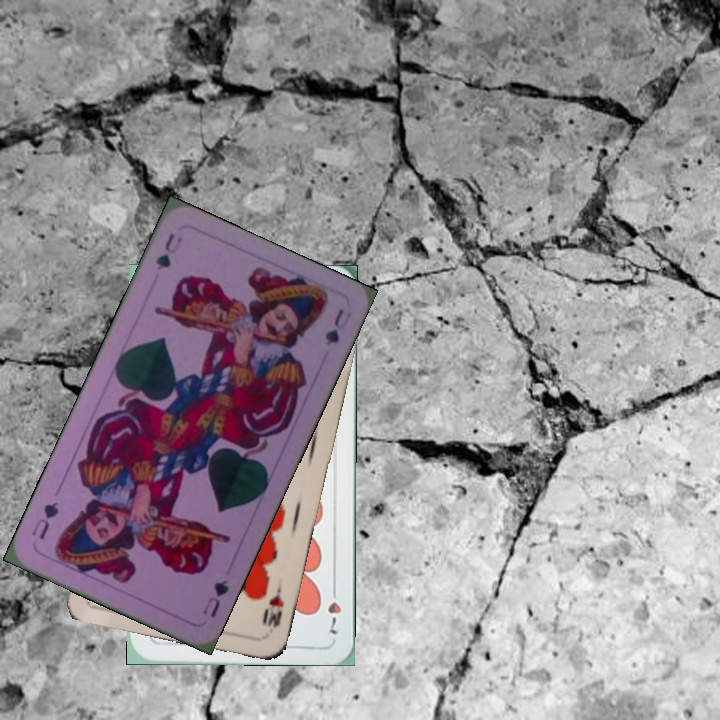GU: (198, 575, 232, 621), (151, 229, 185, 273)
H10: (258, 581, 287, 631)
H7: (324, 580, 344, 638)
